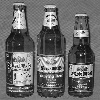beer: (5, 2, 37, 100)
